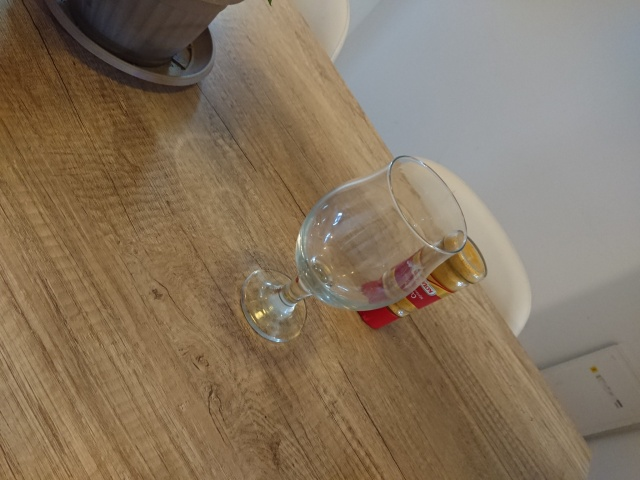Kotanyi Curry Spices Mix 70g: (354, 227, 490, 331)
